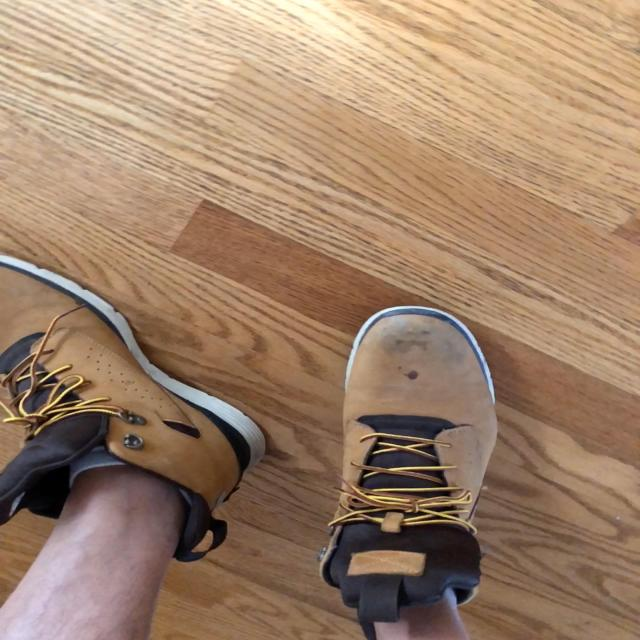shoe: (3, 264, 258, 578), (315, 304, 504, 629)
